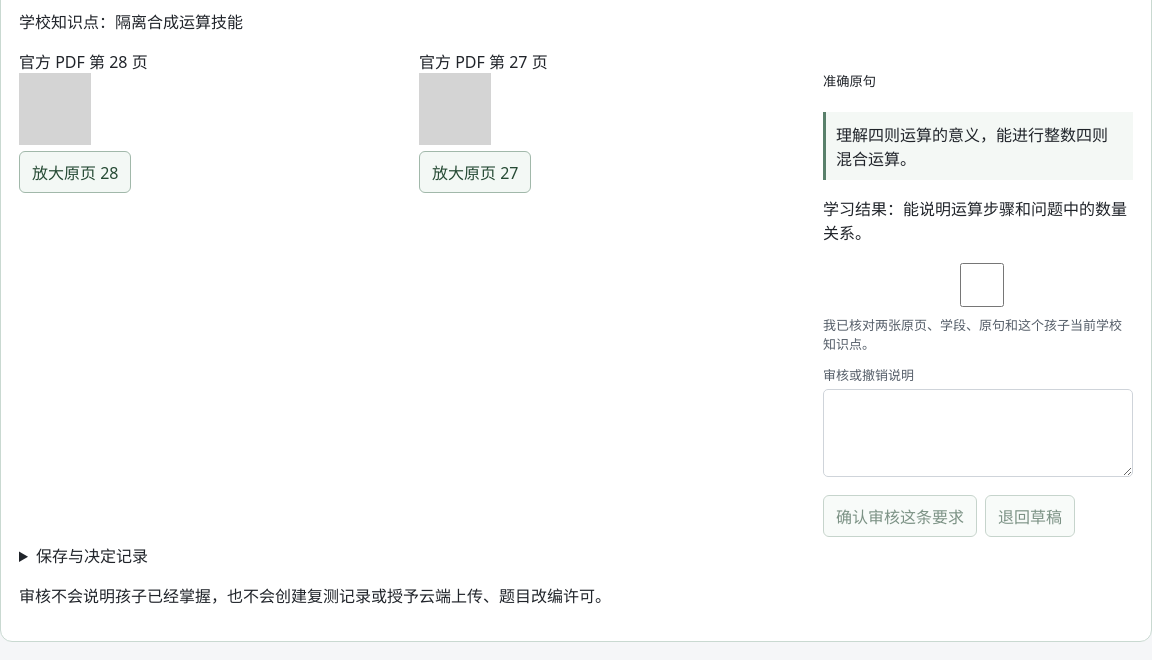
Test case: parent manual official requirement journey › shows both exact stored pages beside explicit approval and saves withdrawal without hiding history
(page scrolled)
Expected: the button "确认审核这条要求" is disabled, [823,495,977,537]
Type "已核对原页、第二学段和准确节点。" into the text box labelled "审核或撤销说明" at [978, 433], box [823,389,1133,477]
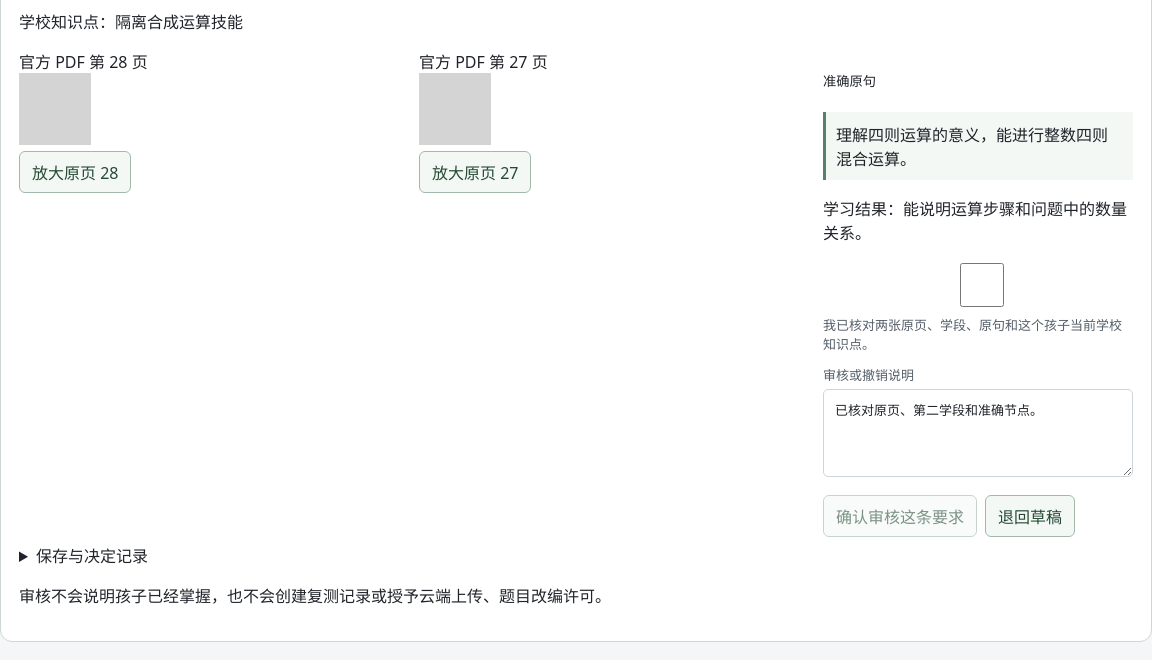
Expected: the button "确认审核这条要求" is disabled, [823,495,977,537]
Click the checkbox at [982, 285], box [827,263,1137,307]
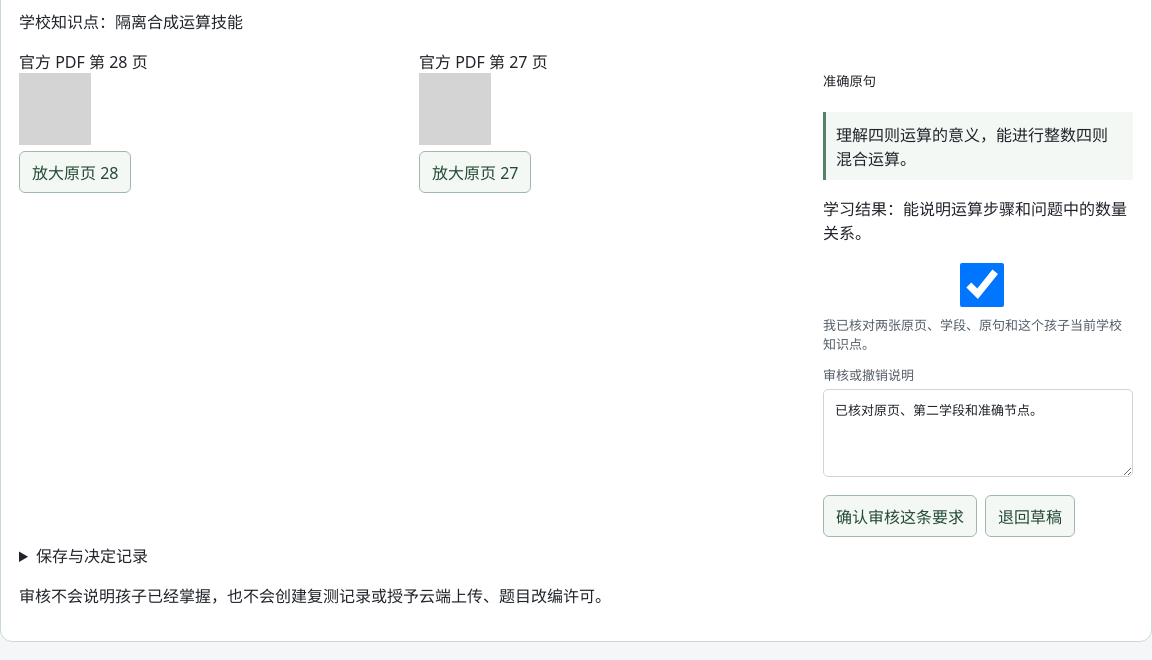
Click the button "确认审核这条要求" at [900, 516], box [823,495,977,537]
(page scrolled)
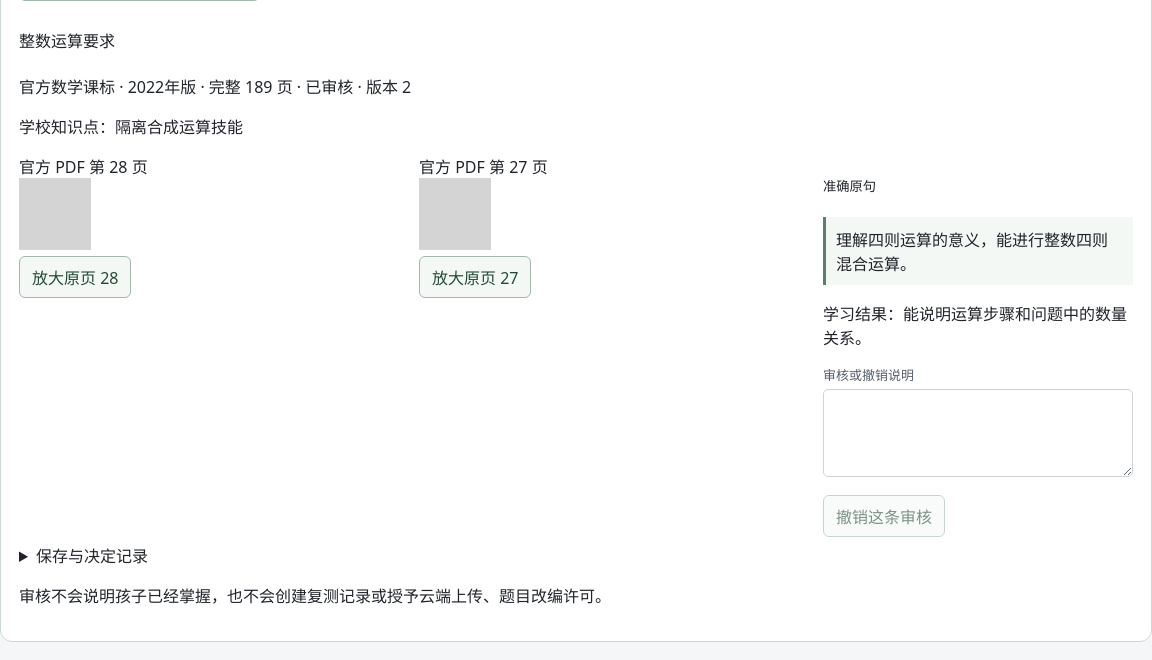
Result: the button "撤销这条审核" is shown at [823,495,945,537]
Type "撤销当前授权，保留历史事实。" into the text box labelled "审核或撤销说明" at [978, 433], box [823,389,1133,477]
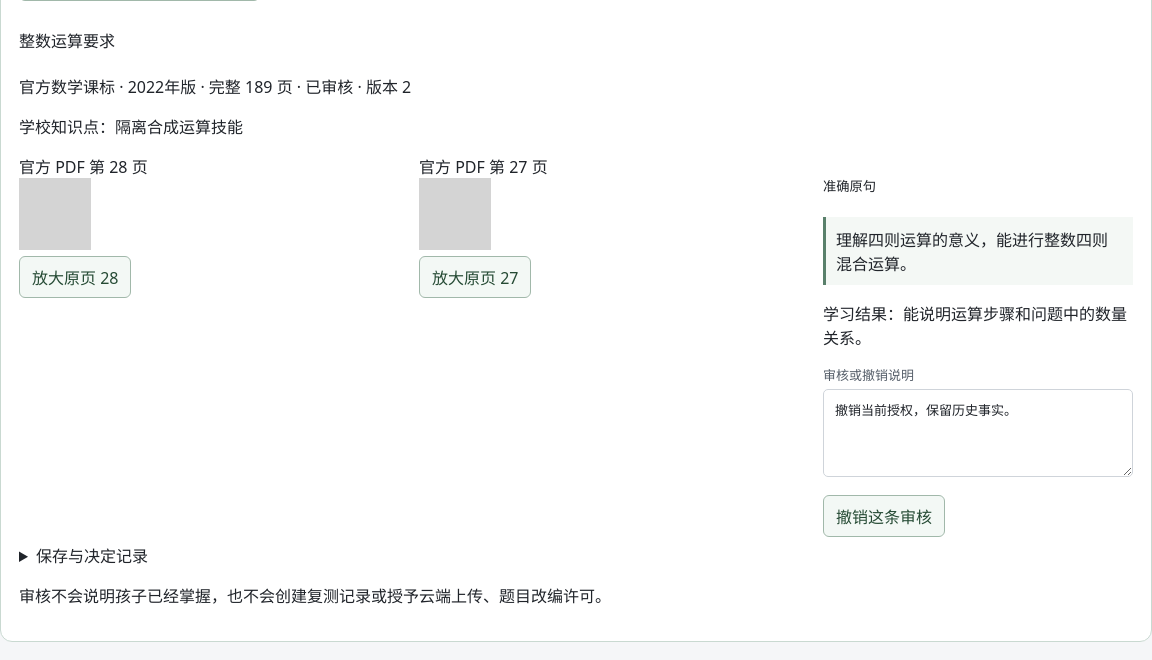
Click the button "撤销这条审核" at [884, 516], box [823,495,945,537]
(page scrolled)
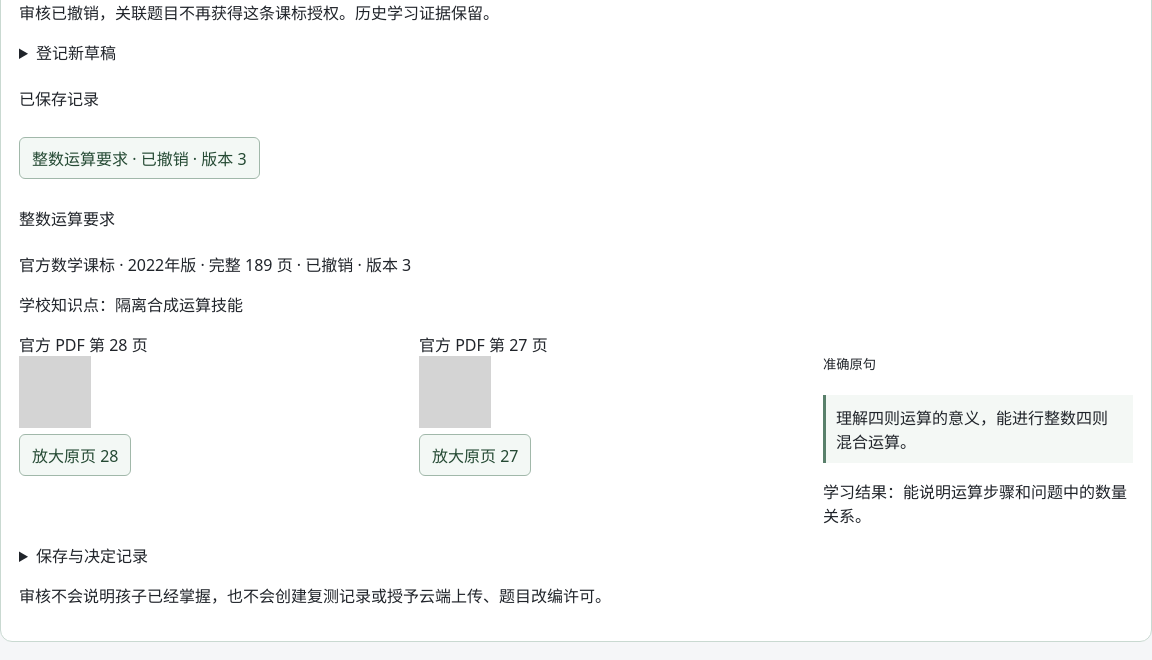
Result: the button "撤销这条审核" is gone
